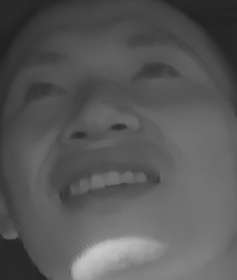eye: (127, 58, 185, 89), (18, 78, 71, 109)
mouth: (50, 153, 162, 219)
